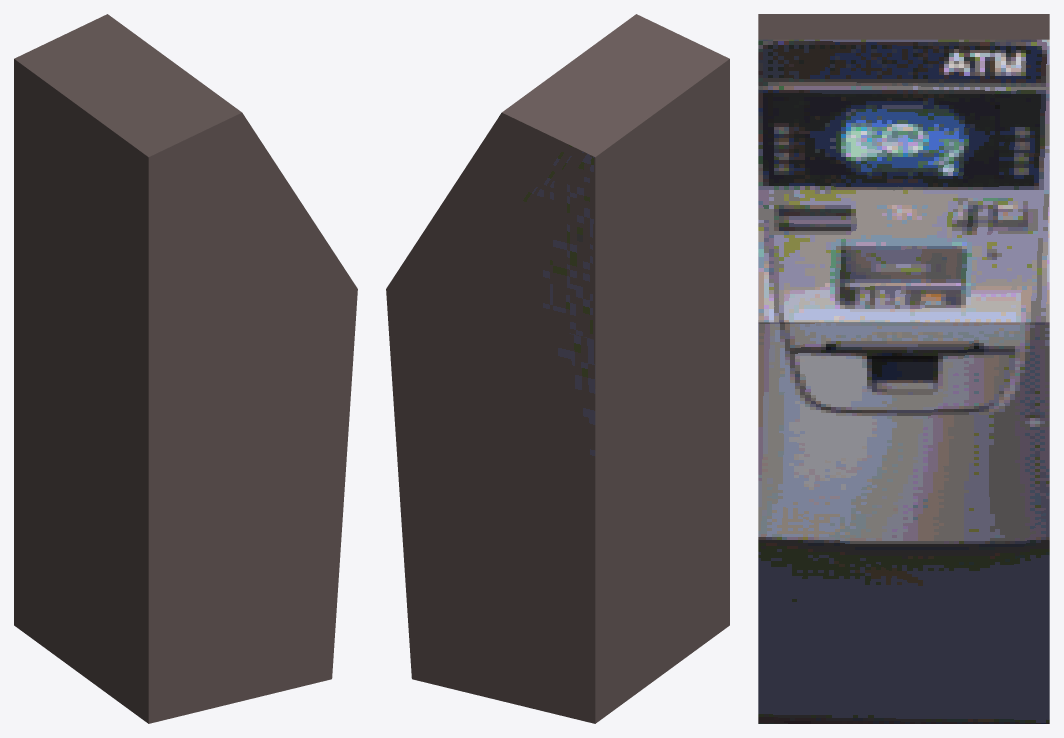
The model's file is atm.glb.
The picture shows the model from 3 angles, left to right: view 1: azimuth 30°, elevation 25°; view 2: azimuth 150°, elevation 25°; view 3: azimuth 270°, elevation 25°; orthographic projection. The views are drawn at different scales.
Parts seen in each view (by area): view 1: Cube; view 2: Cube; view 3: Cube.
Boxes of the visible parts, bbox=[...] form: Cube: bbox=[14, 14, 357, 723]; Cube: bbox=[386, 14, 729, 723]; Cube: bbox=[758, 14, 1049, 723].
Bounding box in the file's own units: 0.5929 × 1.59 × 0.6606.
1 material, 1 textured.
